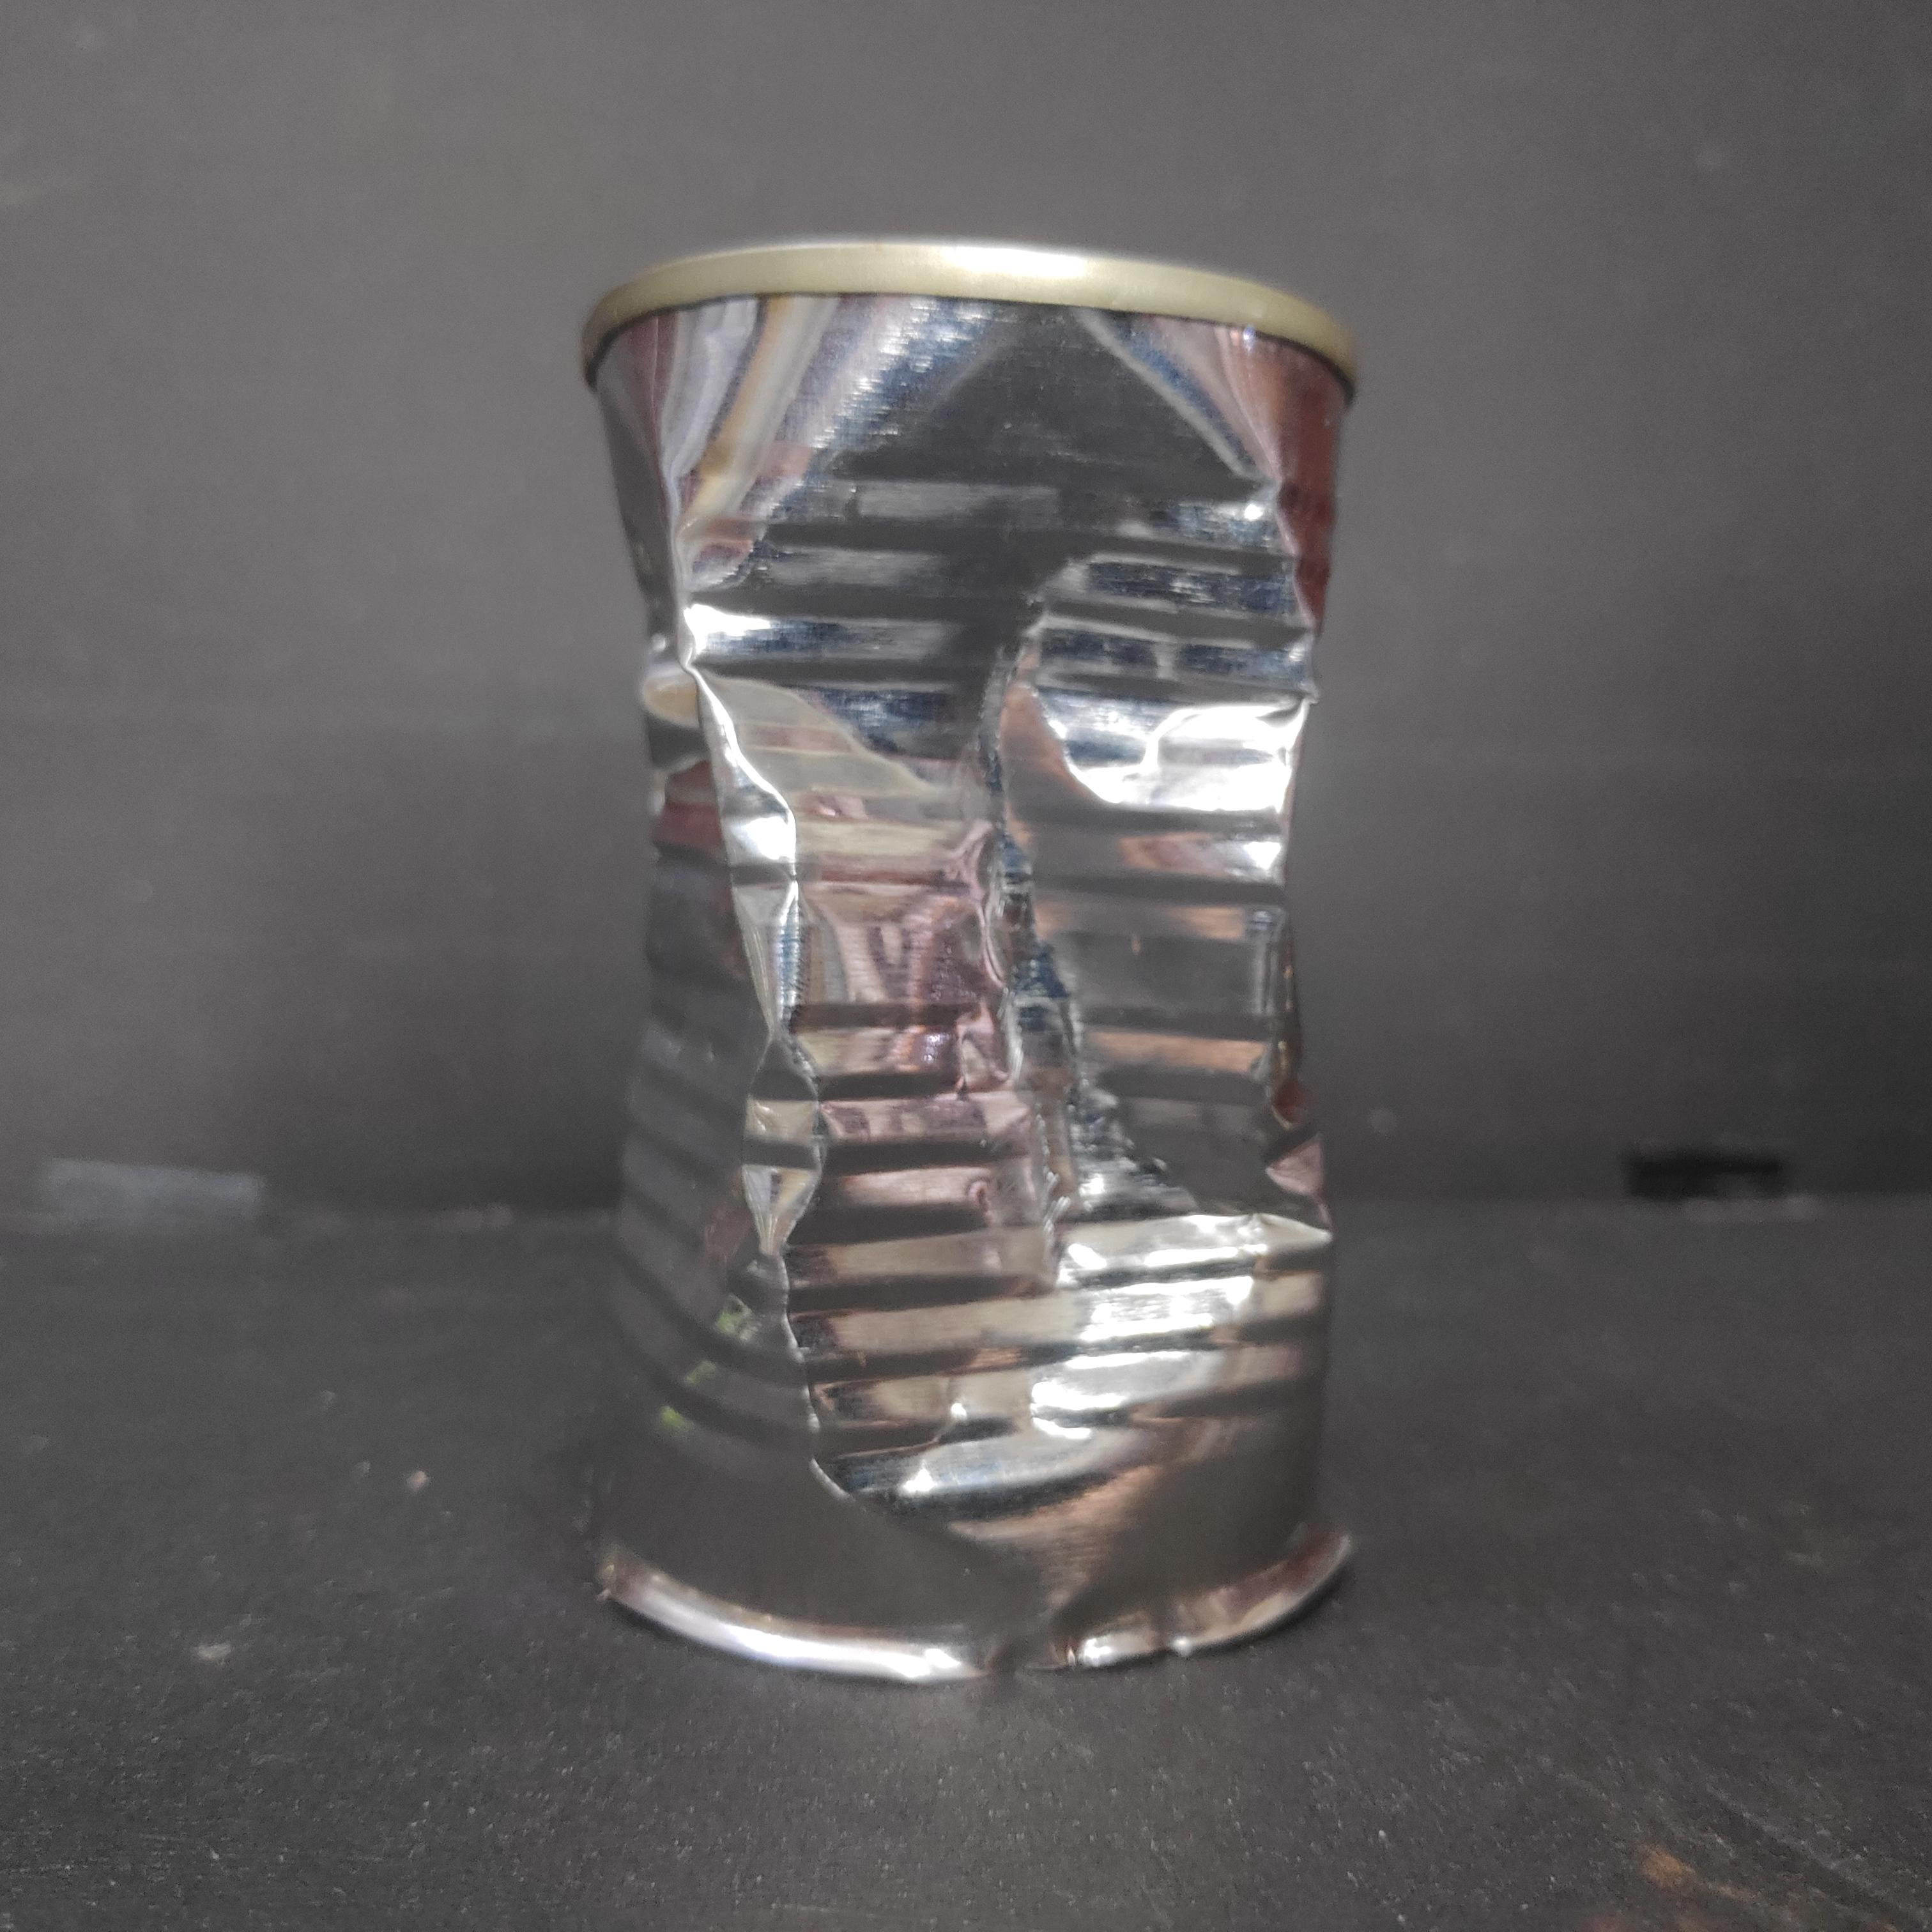Major Defect: (548, 205, 1381, 1712)
